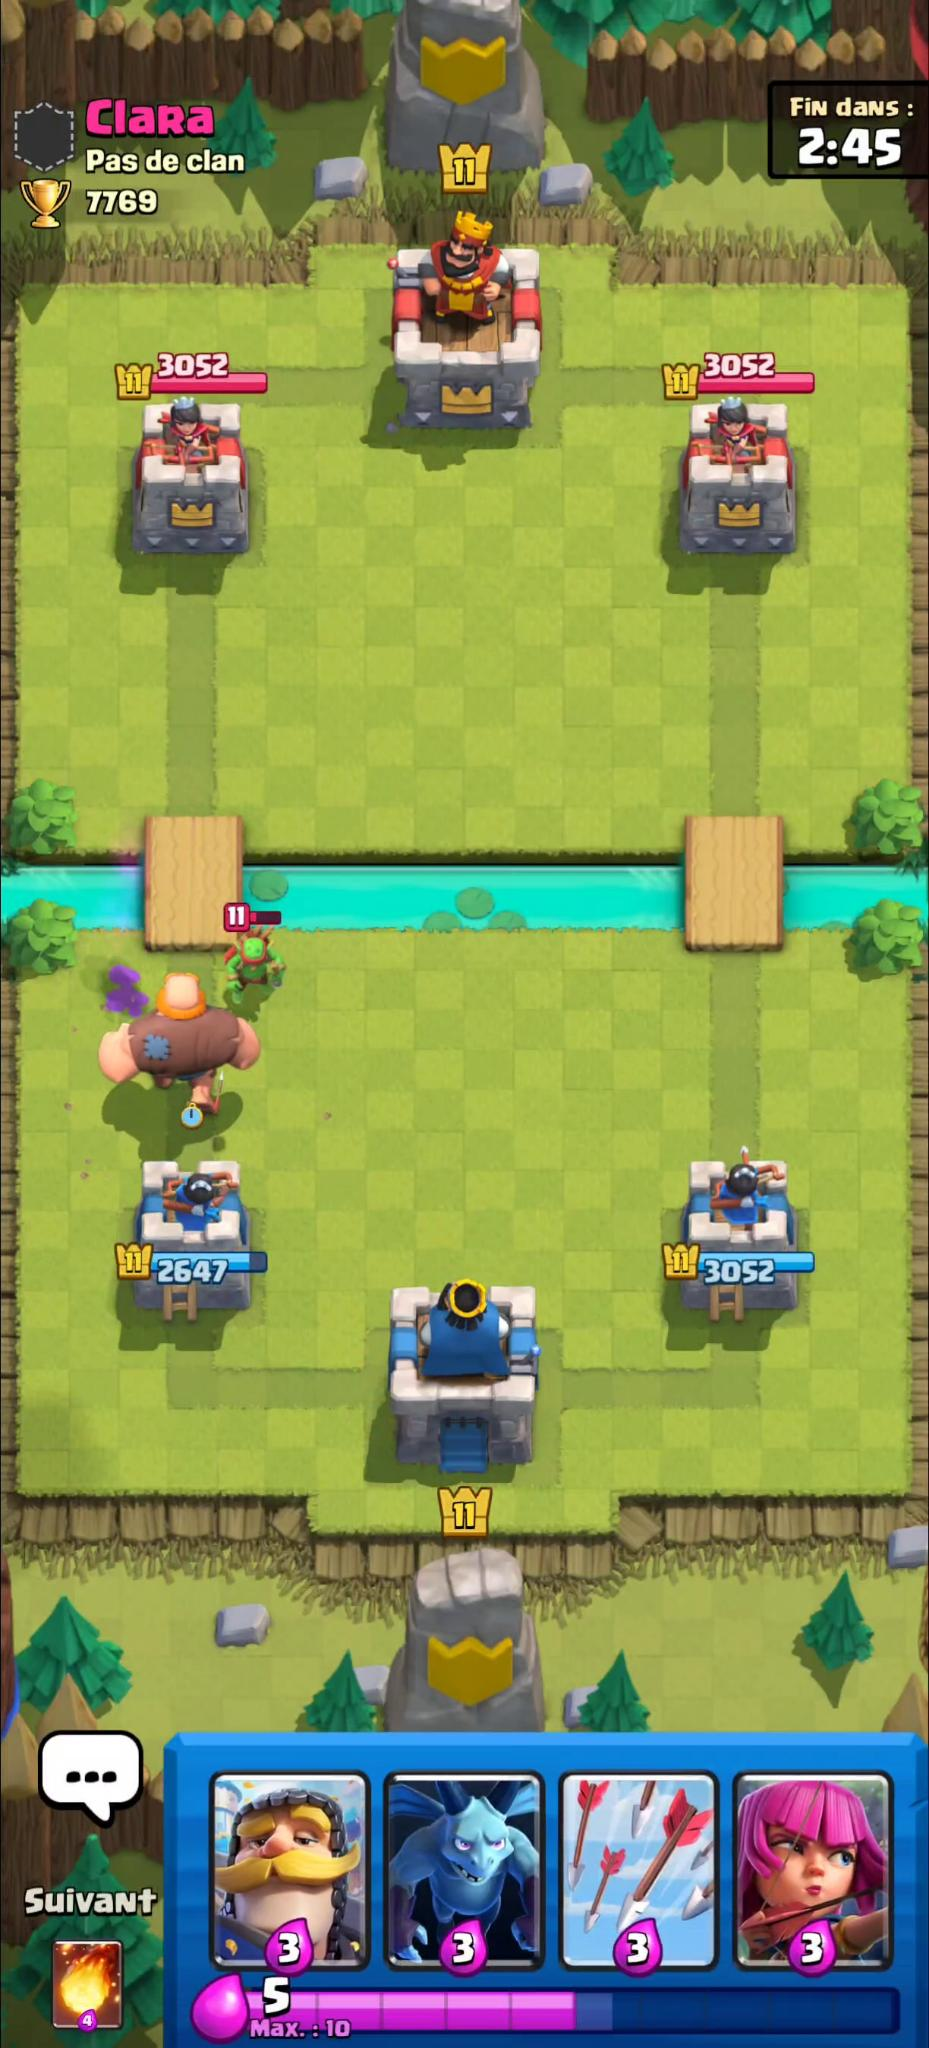geant: (101, 973, 265, 1119)
gobelin_lances: (217, 925, 287, 1008)
